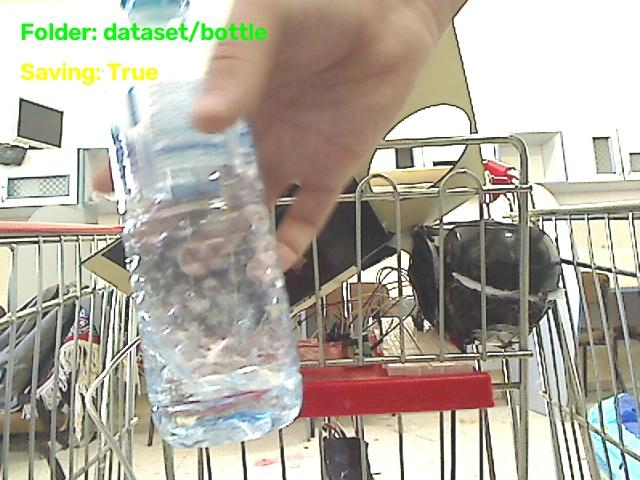Bottle: (116, 67, 302, 447)
